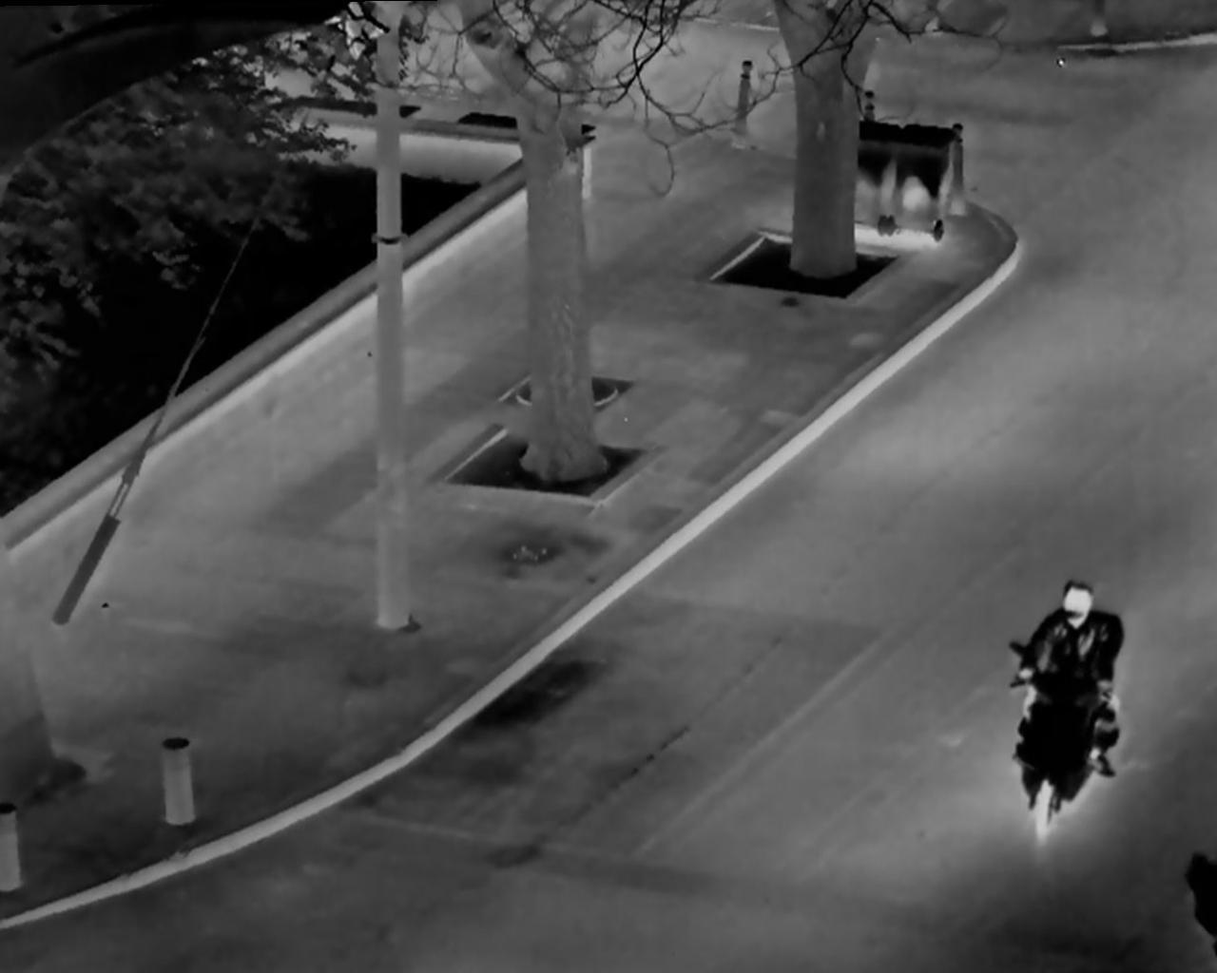person: (1005, 577, 1134, 810)
